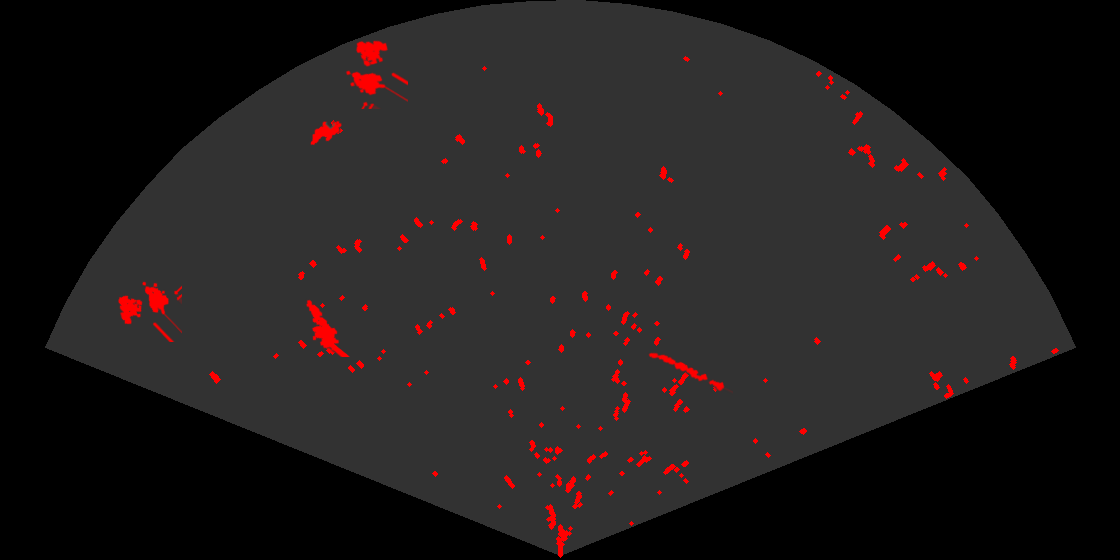AUV: (309, 119, 343, 147)
cage: (344, 39, 408, 109), (116, 280, 182, 342)
chain: (647, 351, 733, 395)
frogman: (305, 298, 351, 357)
